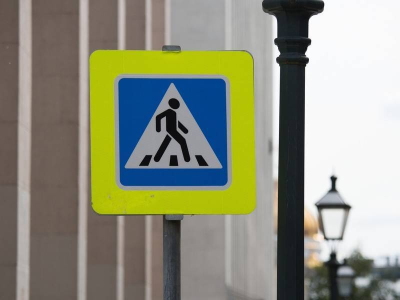crosswalk: (121, 80, 226, 184)
